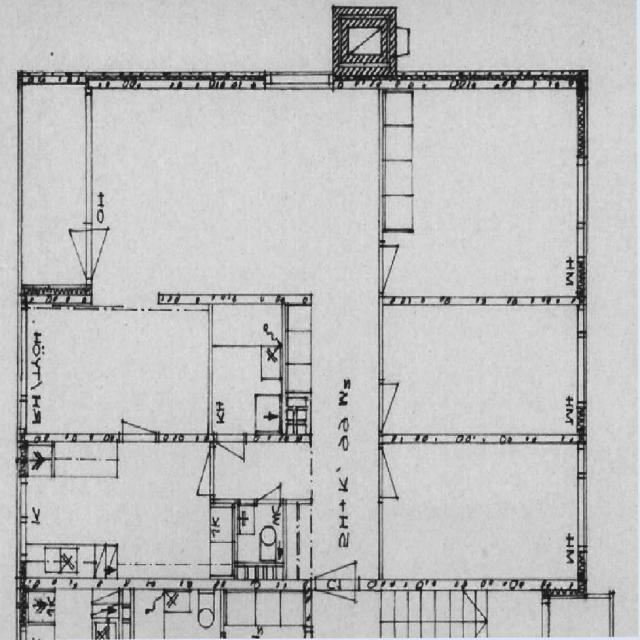door: (316, 578, 356, 640), (316, 528, 356, 590), (48, 230, 92, 279), (86, 230, 130, 279), (380, 448, 422, 497), (379, 383, 421, 431), (379, 246, 420, 293), (173, 447, 214, 494), (123, 390, 157, 442), (218, 434, 245, 477), (257, 468, 281, 504)
